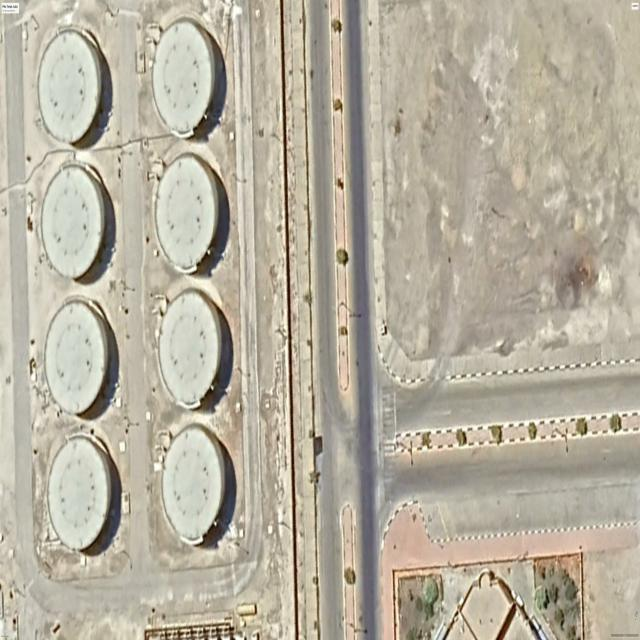Oil Rafinery: (155, 153, 224, 274), (162, 423, 226, 545), (159, 290, 222, 408), (152, 20, 215, 135), (41, 165, 104, 279), (38, 30, 101, 143), (48, 437, 111, 550), (45, 302, 108, 414)
